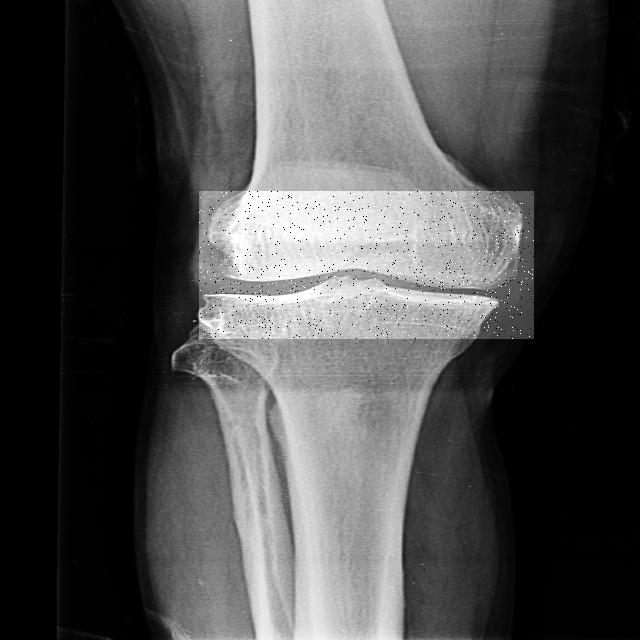osteo: (199, 191, 534, 339)
